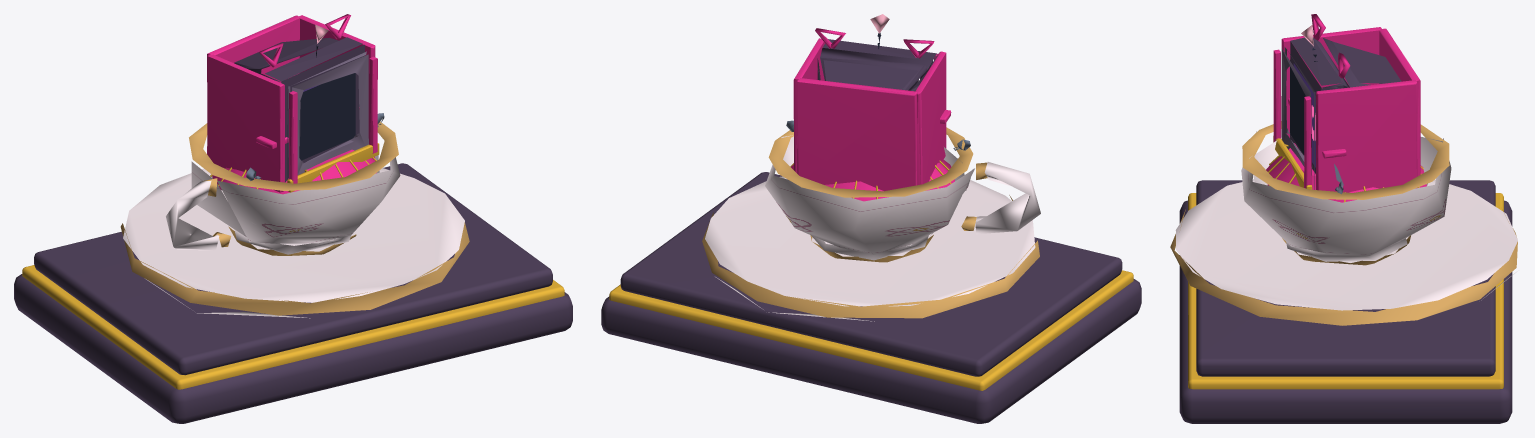
Rendered from kart.outfit.ballerina.lod1.glb.
The picture shows the model from 3 angles, left to right: view 1: azimuth 30°, elevation 25°; view 2: azimuth 150°, elevation 25°; view 3: azimuth 270°, elevation 25°; orthographic projection. The views are drawn at different scales.
Parts seen in each view (by area): view 1: emi_teacup_mesh, stand_display_top, stand_display_base, stand_brass_band, jacket_side.001, jacket_back, jacket_side, pleated_tutu, waist_band, front_open_edge, front_open_edge.001; view 2: emi_teacup_mesh, stand_display_top, stand_display_base, jacket_back, stand_brass_band, jacket_side.001, jacket_side, pleated_tutu; view 3: emi_teacup_mesh, stand_display_top, stand_display_base, jacket_side, stand_brass_band, jacket_side.001, jacket_back, pleated_tutu, front_open_edge.001, front_open_edge, waist_band.
Part boxes in pixels (left/top/right/bottom): emi_teacup_mesh: left=120, top=24, right=469, bottom=318; stand_display_top: left=34, top=163, right=552, bottom=375; stand_display_base: left=14, top=274, right=572, bottom=423; stand_brass_band: left=22, top=265, right=564, bottom=389; jacket_side.001: left=207, top=54, right=284, bottom=192; jacket_back: left=207, top=15, right=300, bottom=82; jacket_side: left=298, top=15, right=375, bottom=143; pleated_tutu: left=212, top=149, right=376, bottom=194; waist_band: left=287, top=143, right=379, bottom=192; front_open_edge: left=369, top=56, right=377, bottom=153; front_open_edge.001: left=289, top=91, right=297, bottom=183; emi_teacup_mesh: left=702, top=14, right=1040, bottom=321; stand_display_top: left=620, top=172, right=1122, bottom=376; stand_display_base: left=601, top=279, right=1141, bottom=423; jacket_back: left=797, top=78, right=917, bottom=190; stand_brass_band: left=609, top=270, right=1133, bottom=390; jacket_side.001: left=916, top=51, right=946, bottom=185; jacket_side: left=793, top=38, right=824, bottom=173; pleated_tutu: left=791, top=159, right=954, bottom=201; emi_teacup_mesh: left=1170, top=25, right=1517, bottom=325; stand_display_top: left=1196, top=180, right=1495, bottom=376; stand_display_base: left=1179, top=200, right=1512, bottom=423; jacket_side: left=1316, top=80, right=1417, bottom=192; stand_brass_band: left=1188, top=193, right=1503, bottom=389; jacket_side.001: left=1281, top=27, right=1381, bottom=137; jacket_back: left=1379, top=28, right=1420, bottom=175; pleated_tutu: left=1266, top=143, right=1426, bottom=202; front_open_edge.001: left=1273, top=49, right=1280, bottom=141; front_open_edge: left=1304, top=96, right=1311, bottom=188; waist_band: left=1273, top=136, right=1312, bottom=189.
Bounding box in the file's own units: 0.64 × 0.4674 × 0.4816.
Materials: 4 (2 with a texture image).
